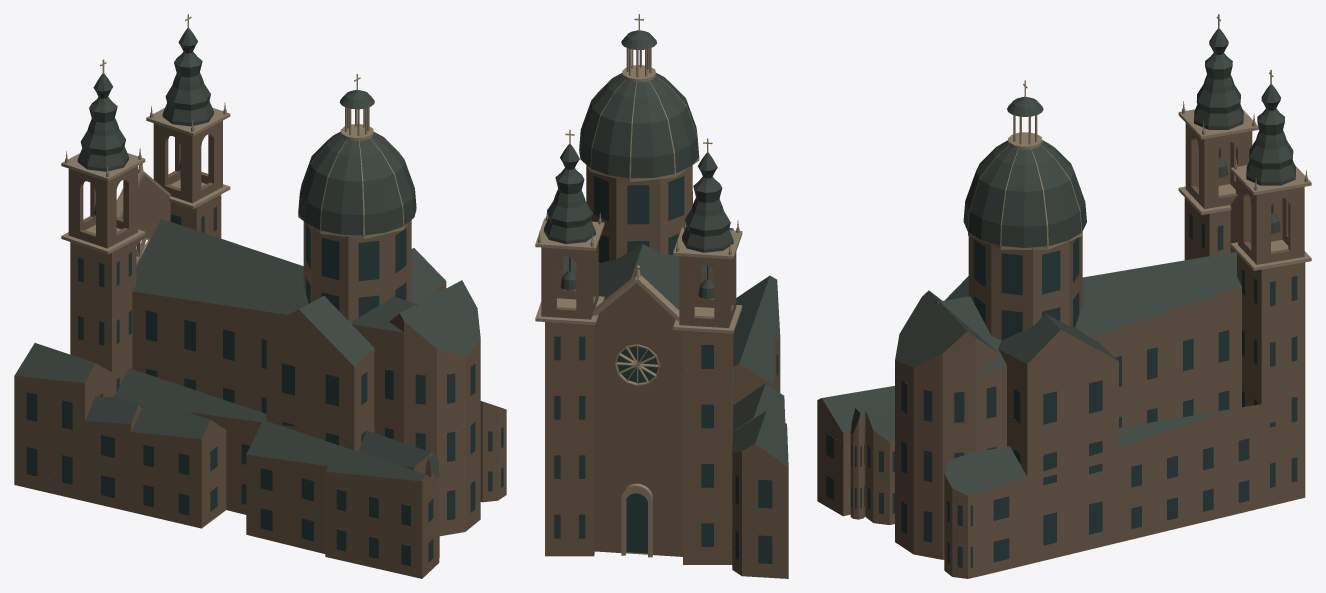
The model's file is basilica-saint-nicholas-amsterdam-near.glb.
The picture shows the model from 3 angles, left to right: view 1: azimuth 30°, elevation 25°; view 2: azimuth 150°, elevation 25°; view 3: azimuth 270°, elevation 25°; orthographic projection. The views are drawn at different scales.
Visible parts, largest first — view 1: basilica-saint-nicholas-amsterdam-0-brick, basilica-saint-nicholas-amsterdam-0-roof, basilica-saint-nicholas-amsterdam-0-glass, basilica-saint-nicholas-amsterdam-0-stone; view 2: basilica-saint-nicholas-amsterdam-0-brick, basilica-saint-nicholas-amsterdam-0-roof, basilica-saint-nicholas-amsterdam-0-glass, basilica-saint-nicholas-amsterdam-0-stone; view 3: basilica-saint-nicholas-amsterdam-0-brick, basilica-saint-nicholas-amsterdam-0-roof, basilica-saint-nicholas-amsterdam-0-glass, basilica-saint-nicholas-amsterdam-0-stone.
Boxes of the visible parts, x1,y1,x2,y2 form: basilica-saint-nicholas-amsterdam-0-brick: [14, 120, 506, 578]; basilica-saint-nicholas-amsterdam-0-roof: [14, 28, 503, 481]; basilica-saint-nicholas-amsterdam-0-glass: [26, 206, 503, 566]; basilica-saint-nicholas-amsterdam-0-stone: [61, 102, 416, 265]; basilica-saint-nicholas-amsterdam-0-brick: [541, 165, 788, 578]; basilica-saint-nicholas-amsterdam-0-roof: [544, 30, 788, 467]; basilica-saint-nicholas-amsterdam-0-glass: [554, 175, 778, 563]; basilica-saint-nicholas-amsterdam-0-stone: [535, 48, 742, 557]; basilica-saint-nicholas-amsterdam-0-brick: [817, 123, 1305, 578]; basilica-saint-nicholas-amsterdam-0-roof: [822, 29, 1295, 495]; basilica-saint-nicholas-amsterdam-0-glass: [826, 214, 1297, 567]; basilica-saint-nicholas-amsterdam-0-stone: [967, 101, 1311, 270].
Bounding box in the file's own units: 52.08 × 58 × 59.21.
